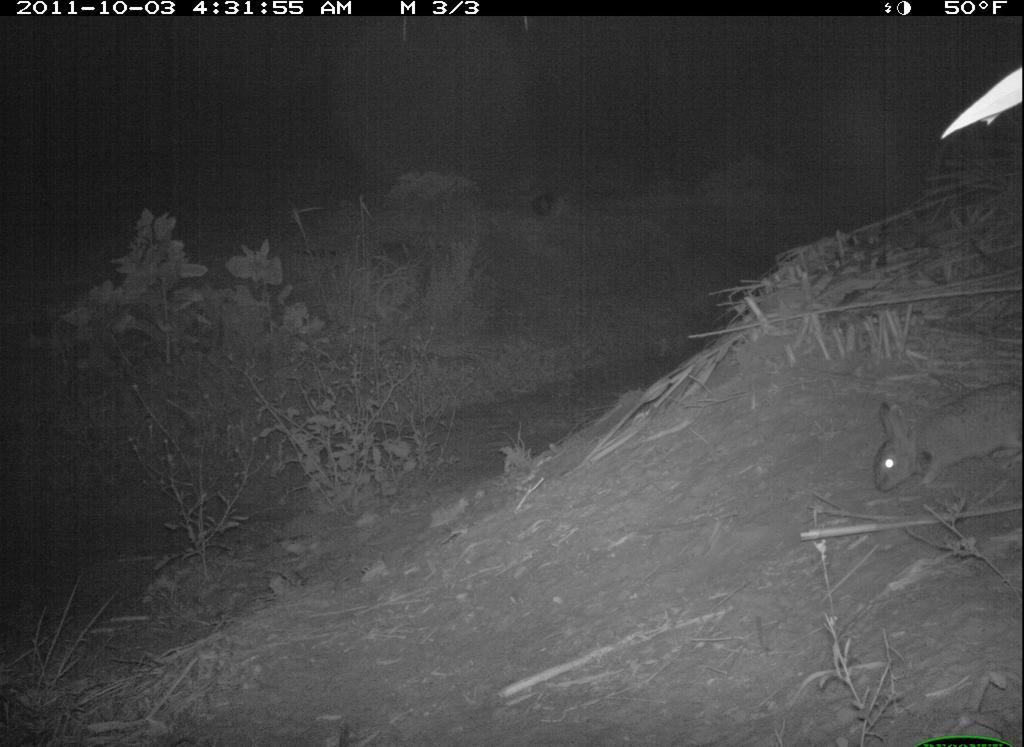rabbit: (859, 381, 1023, 511)
